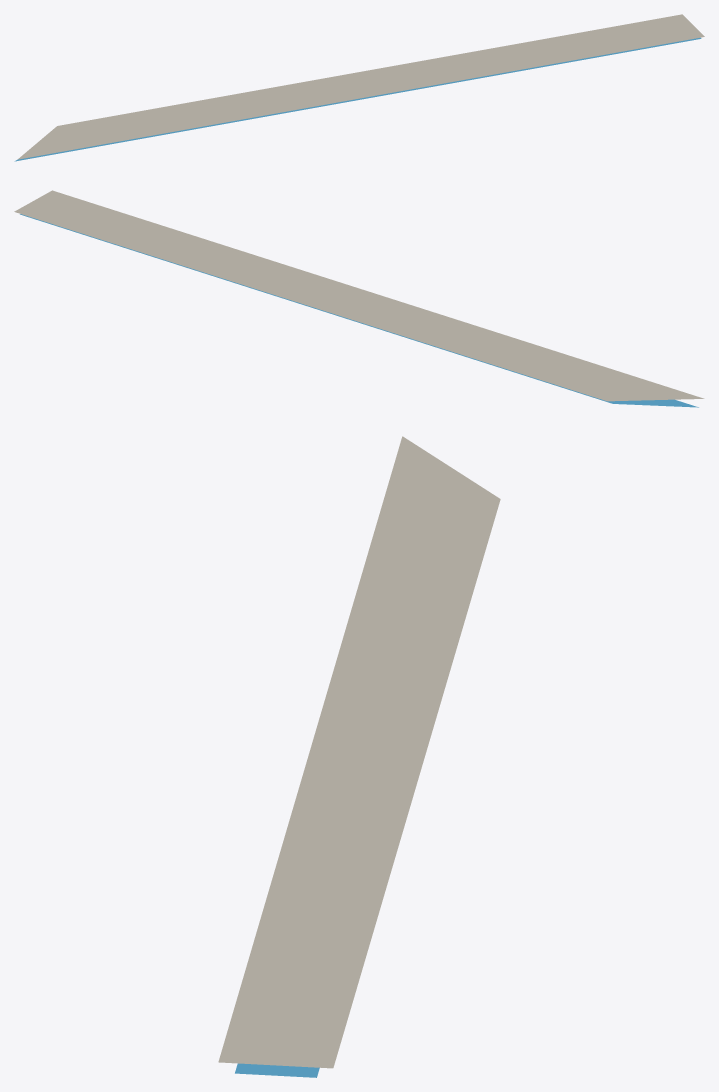
3 views of the same model, one above another, from view 1: azimuth 30°, elevation 25°; view 2: azimuth 150°, elevation 25°; view 3: azimuth 270°, elevation 25° (orthographic). The views are drawn at different scales.
Visible parts, largest first — view 1: estructura_terreno, estructura_agua; view 2: estructura_terreno, estructura_agua; view 3: estructura_terreno.
Boxes of the visible parts, x1,y1,x2,y2 form: estructura_terreno: (18,14,704,159); estructura_agua: (14,37,701,161); estructura_terreno: (14,190,704,401); estructura_agua: (20,214,698,407); estructura_terreno: (218,436,500,1068).
Bounding box in the file's own units: 54.21 × 0.41 × 10.23.
